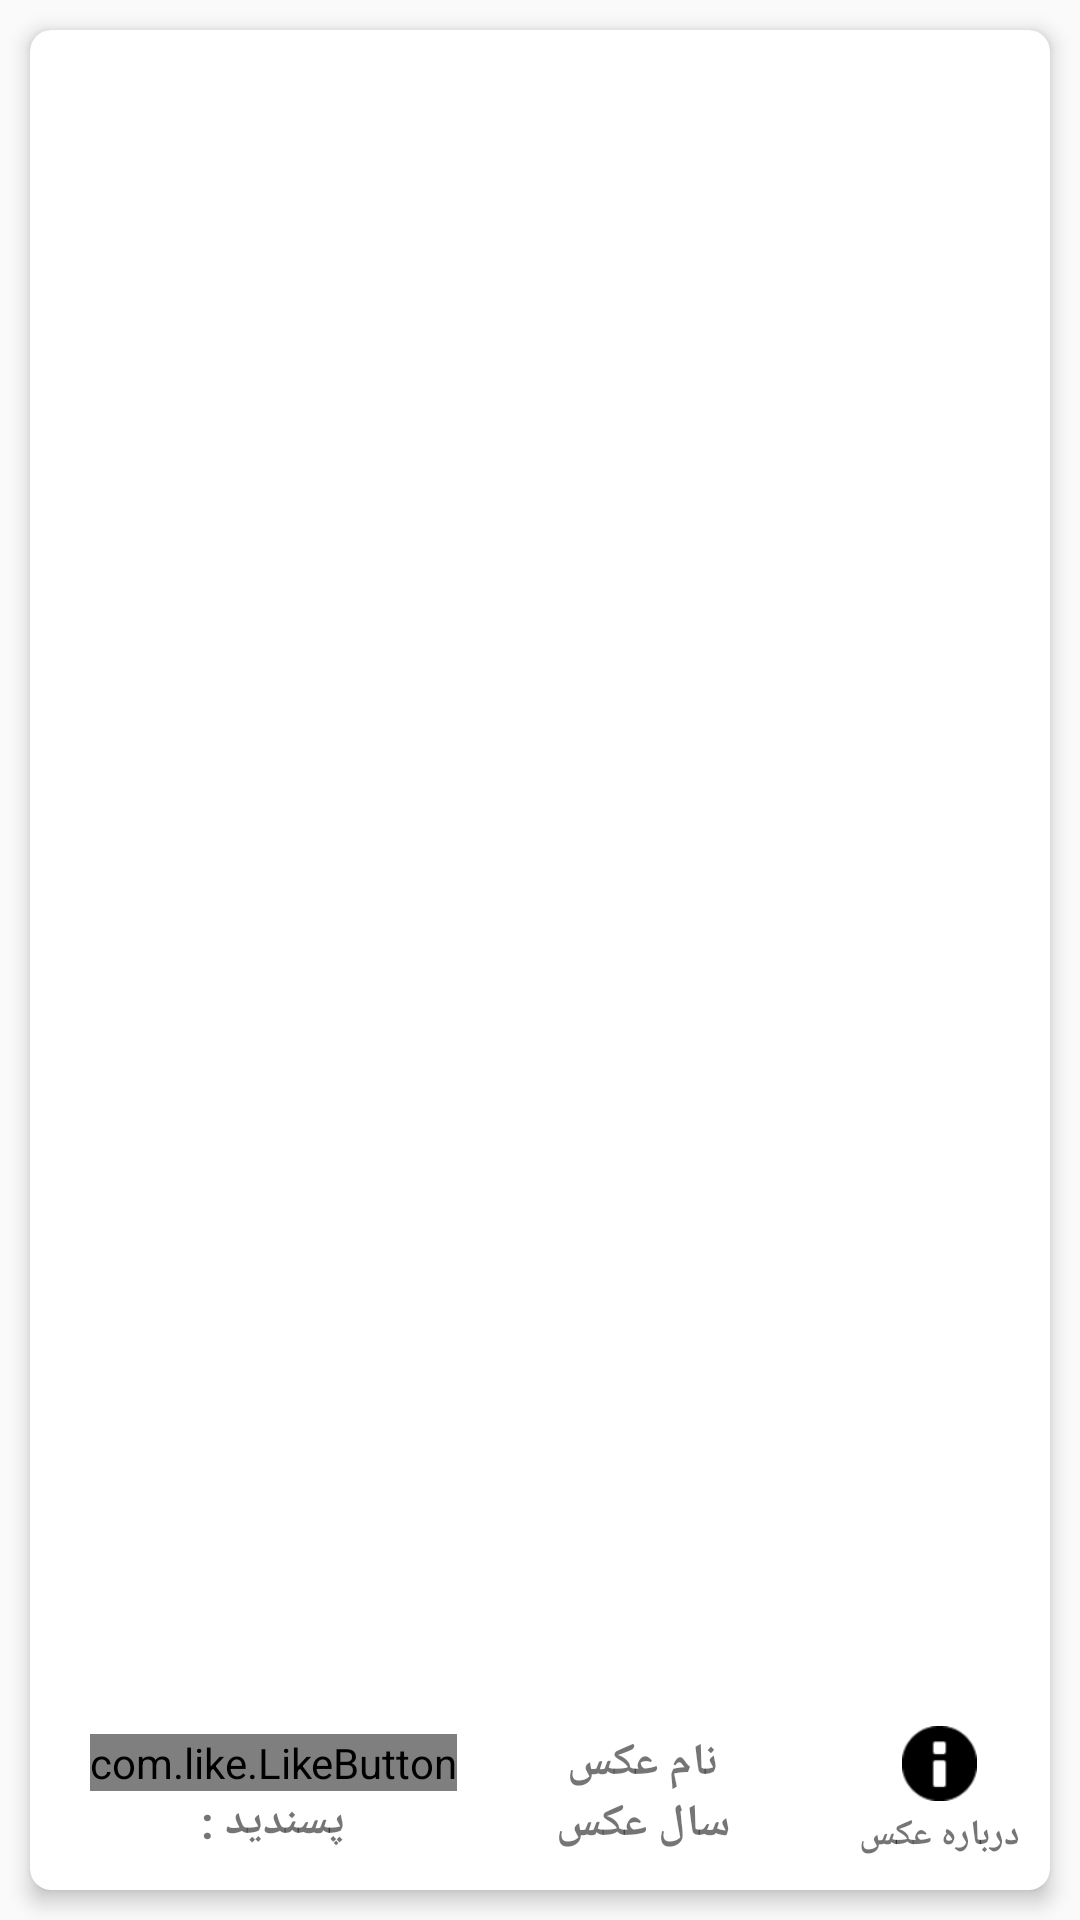

Screen size 1080 × 1920. Icon name, then its center in pixels as (x=x, y=y):
info: (x=939, y=1763)
